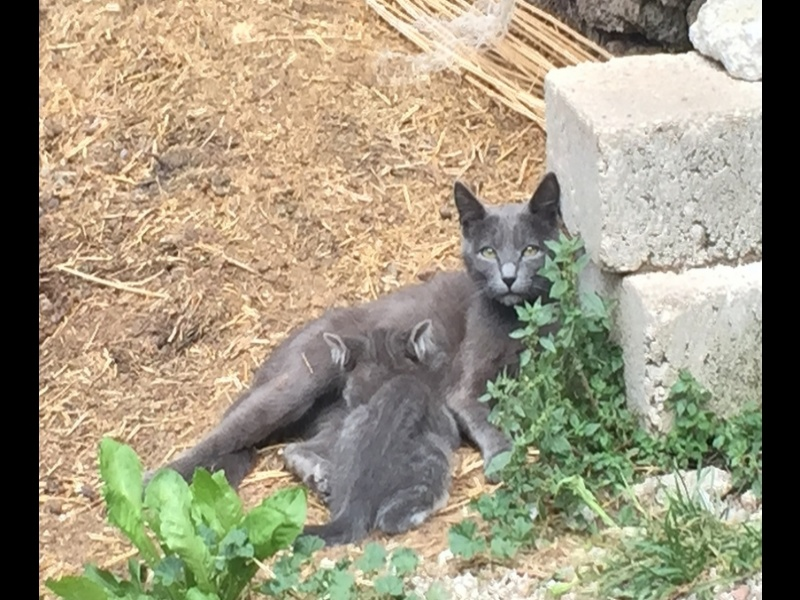cat: (132, 168, 578, 573), (316, 323, 449, 547)
